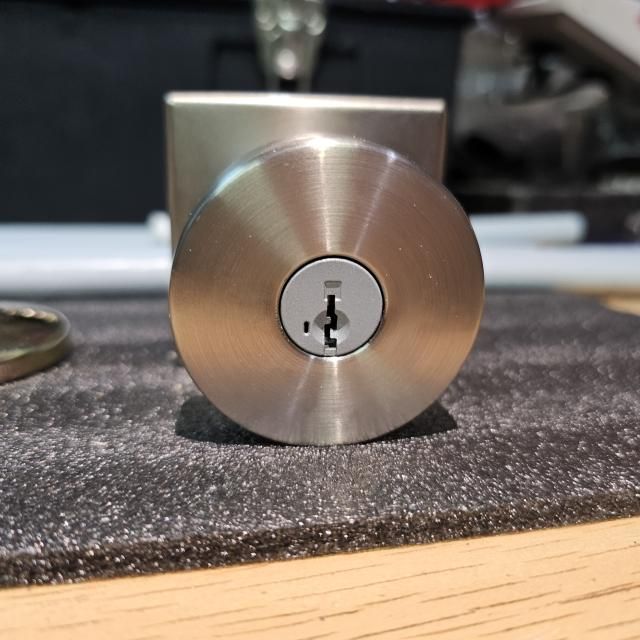door-knob: (165, 92, 484, 445)
